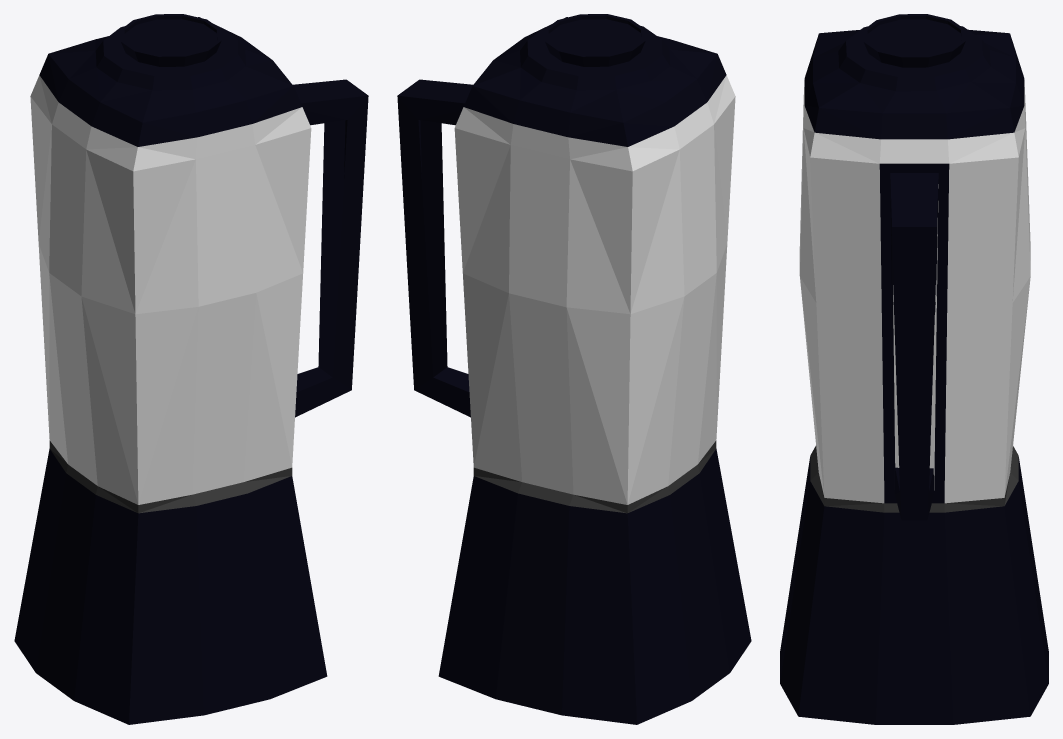
The model's file is blender_01.glb.
The picture shows the model from 3 angles, left to right: view 1: azimuth 30°, elevation 25°; view 2: azimuth 150°, elevation 25°; view 3: azimuth 270°, elevation 25°; orthographic projection.
Visible parts, largest first — view 1: Cube; view 2: Cube; view 3: Cube.
Boxes of the visible parts, x1,y1,x2,y2 form: Cube: [14, 14, 368, 724]; Cube: [397, 14, 751, 724]; Cube: [780, 14, 1048, 724].
Size of the model in its own units: 0.2008 by 0.3954 by 0.1524.
1 material, 1 textured.
